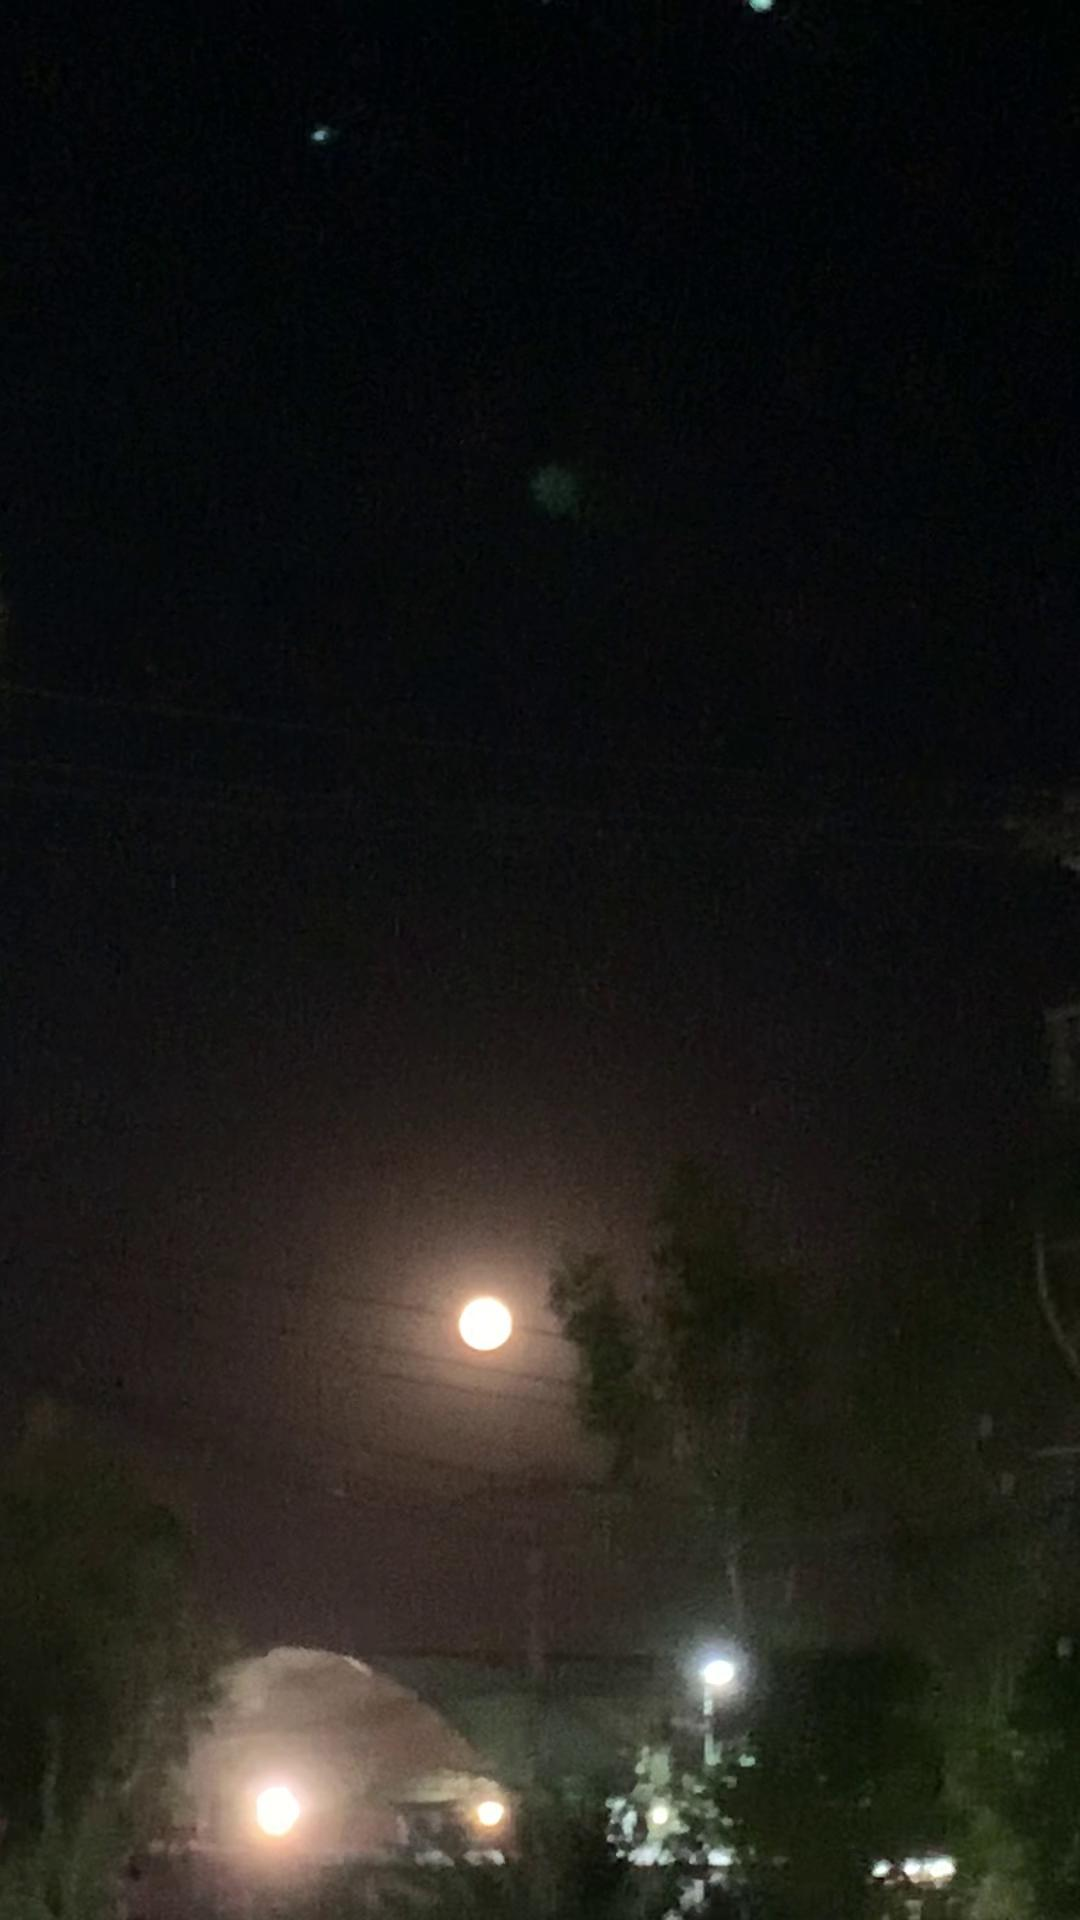moon: (442, 1284, 531, 1361)
